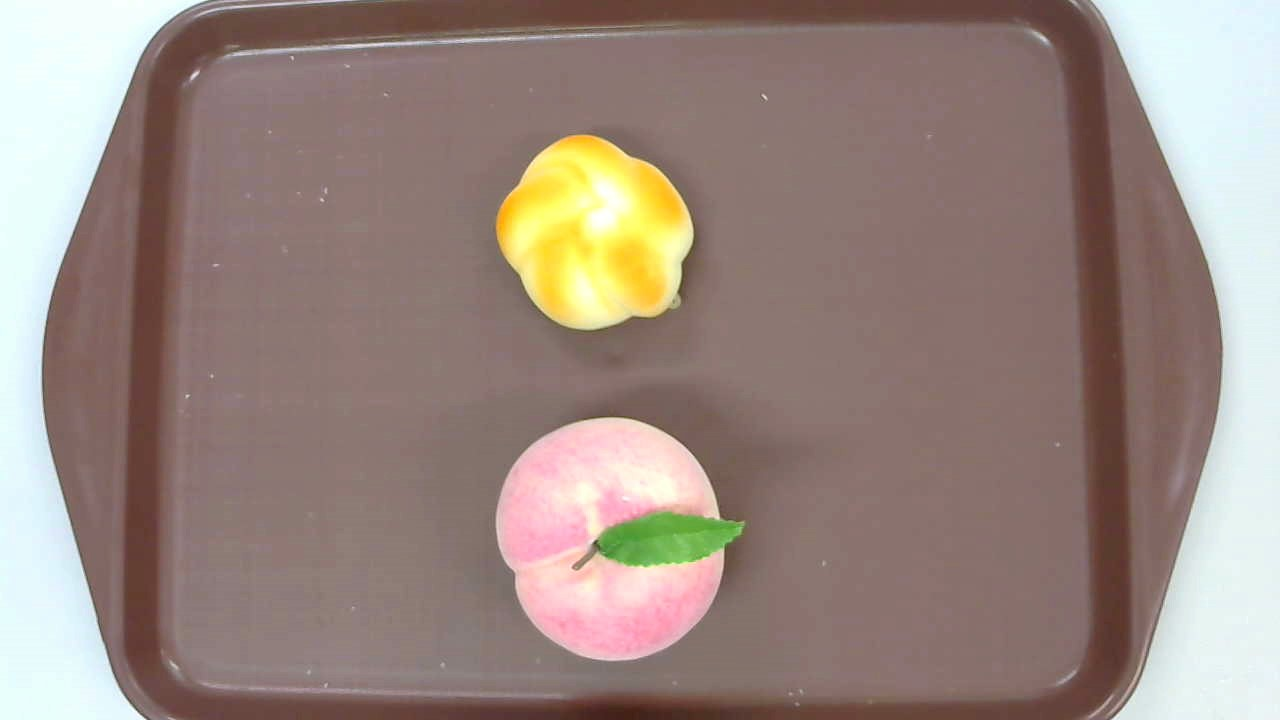peaches: (495, 416, 745, 662)
twist bread: (496, 134, 695, 329)
